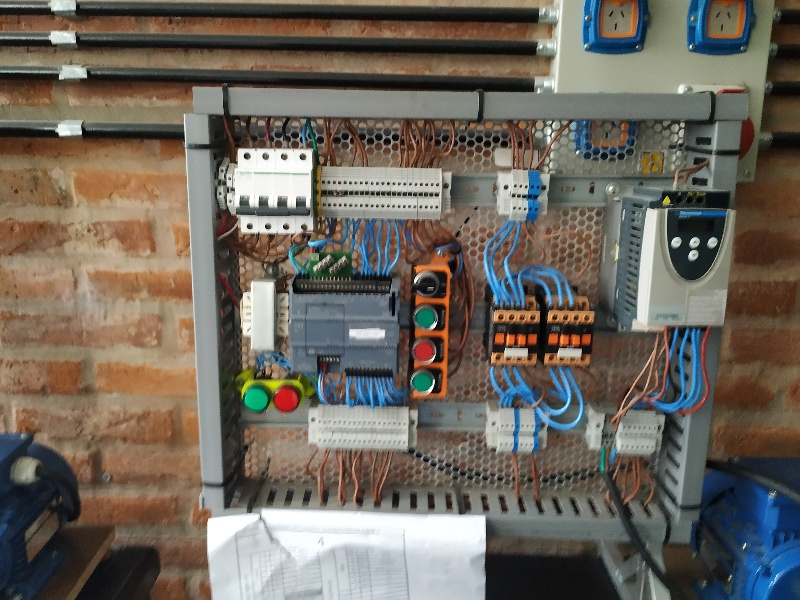Tablero 4: (199, 100, 731, 534)
